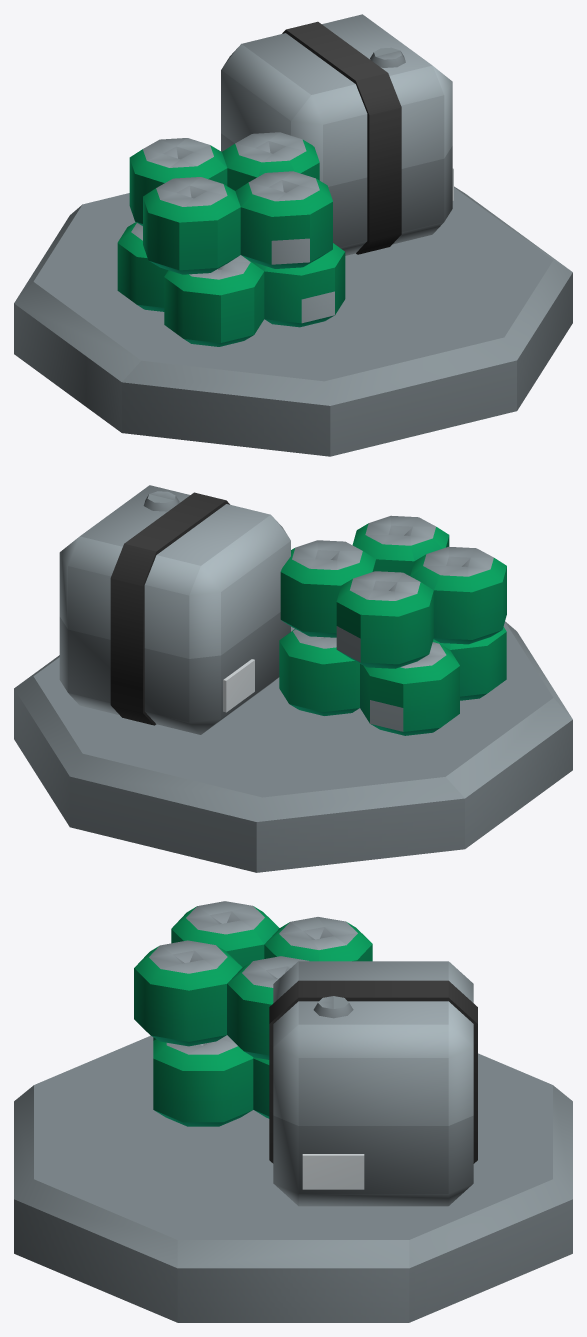
Rendered from roofmodule_cargo_A.obj.
3 renders of one model, top to bottom at view 1: azimuth 30°, elevation 25°; view 2: azimuth 150°, elevation 25°; view 3: azimuth 270°, elevation 25°, orthographic. The views are drawn at different scales.
Bounding box in the file's own units: 1.4 × 0.72 × 1.4.
1 material, 1 textured.
